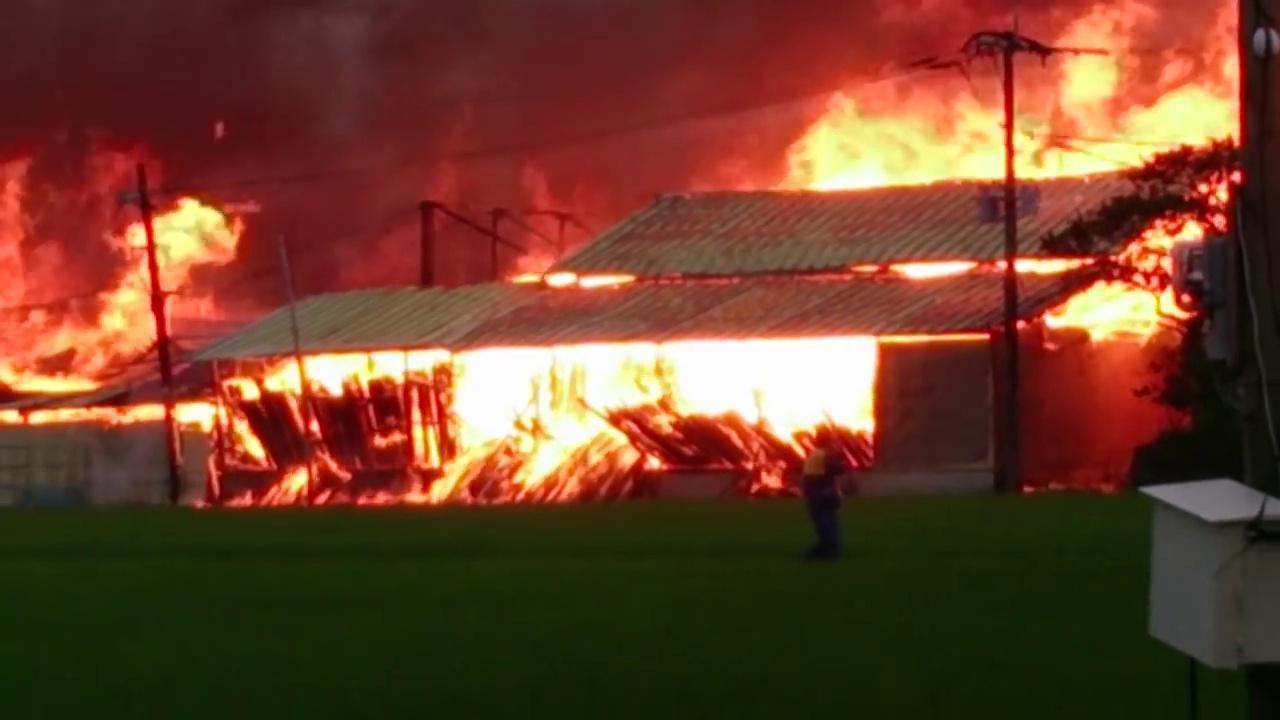Fire: (777, 6, 1237, 193), (452, 333, 884, 484), (5, 205, 252, 400), (1016, 227, 1207, 343), (3, 409, 270, 465), (221, 347, 446, 403), (513, 269, 635, 295), (851, 255, 975, 280), (280, 466, 312, 493)
